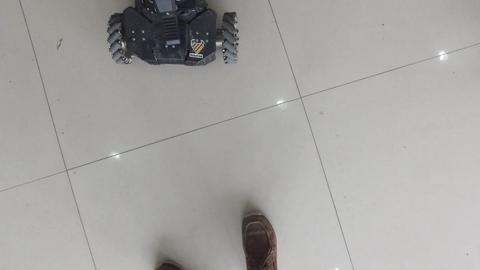chariot: (97, 1, 244, 76)
